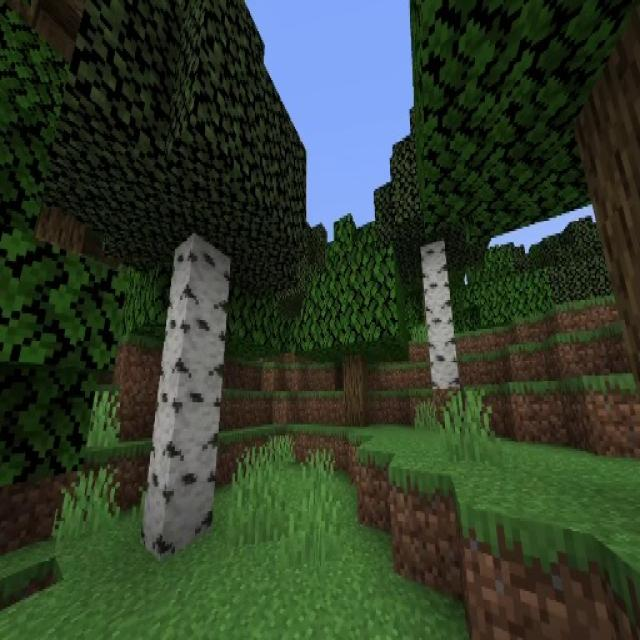birch: (52, 0, 305, 554), (382, 106, 491, 390)
birch_log: (139, 234, 231, 552), (420, 241, 459, 388)
oak: (306, 212, 408, 426)
oak_log: (341, 349, 369, 425)
